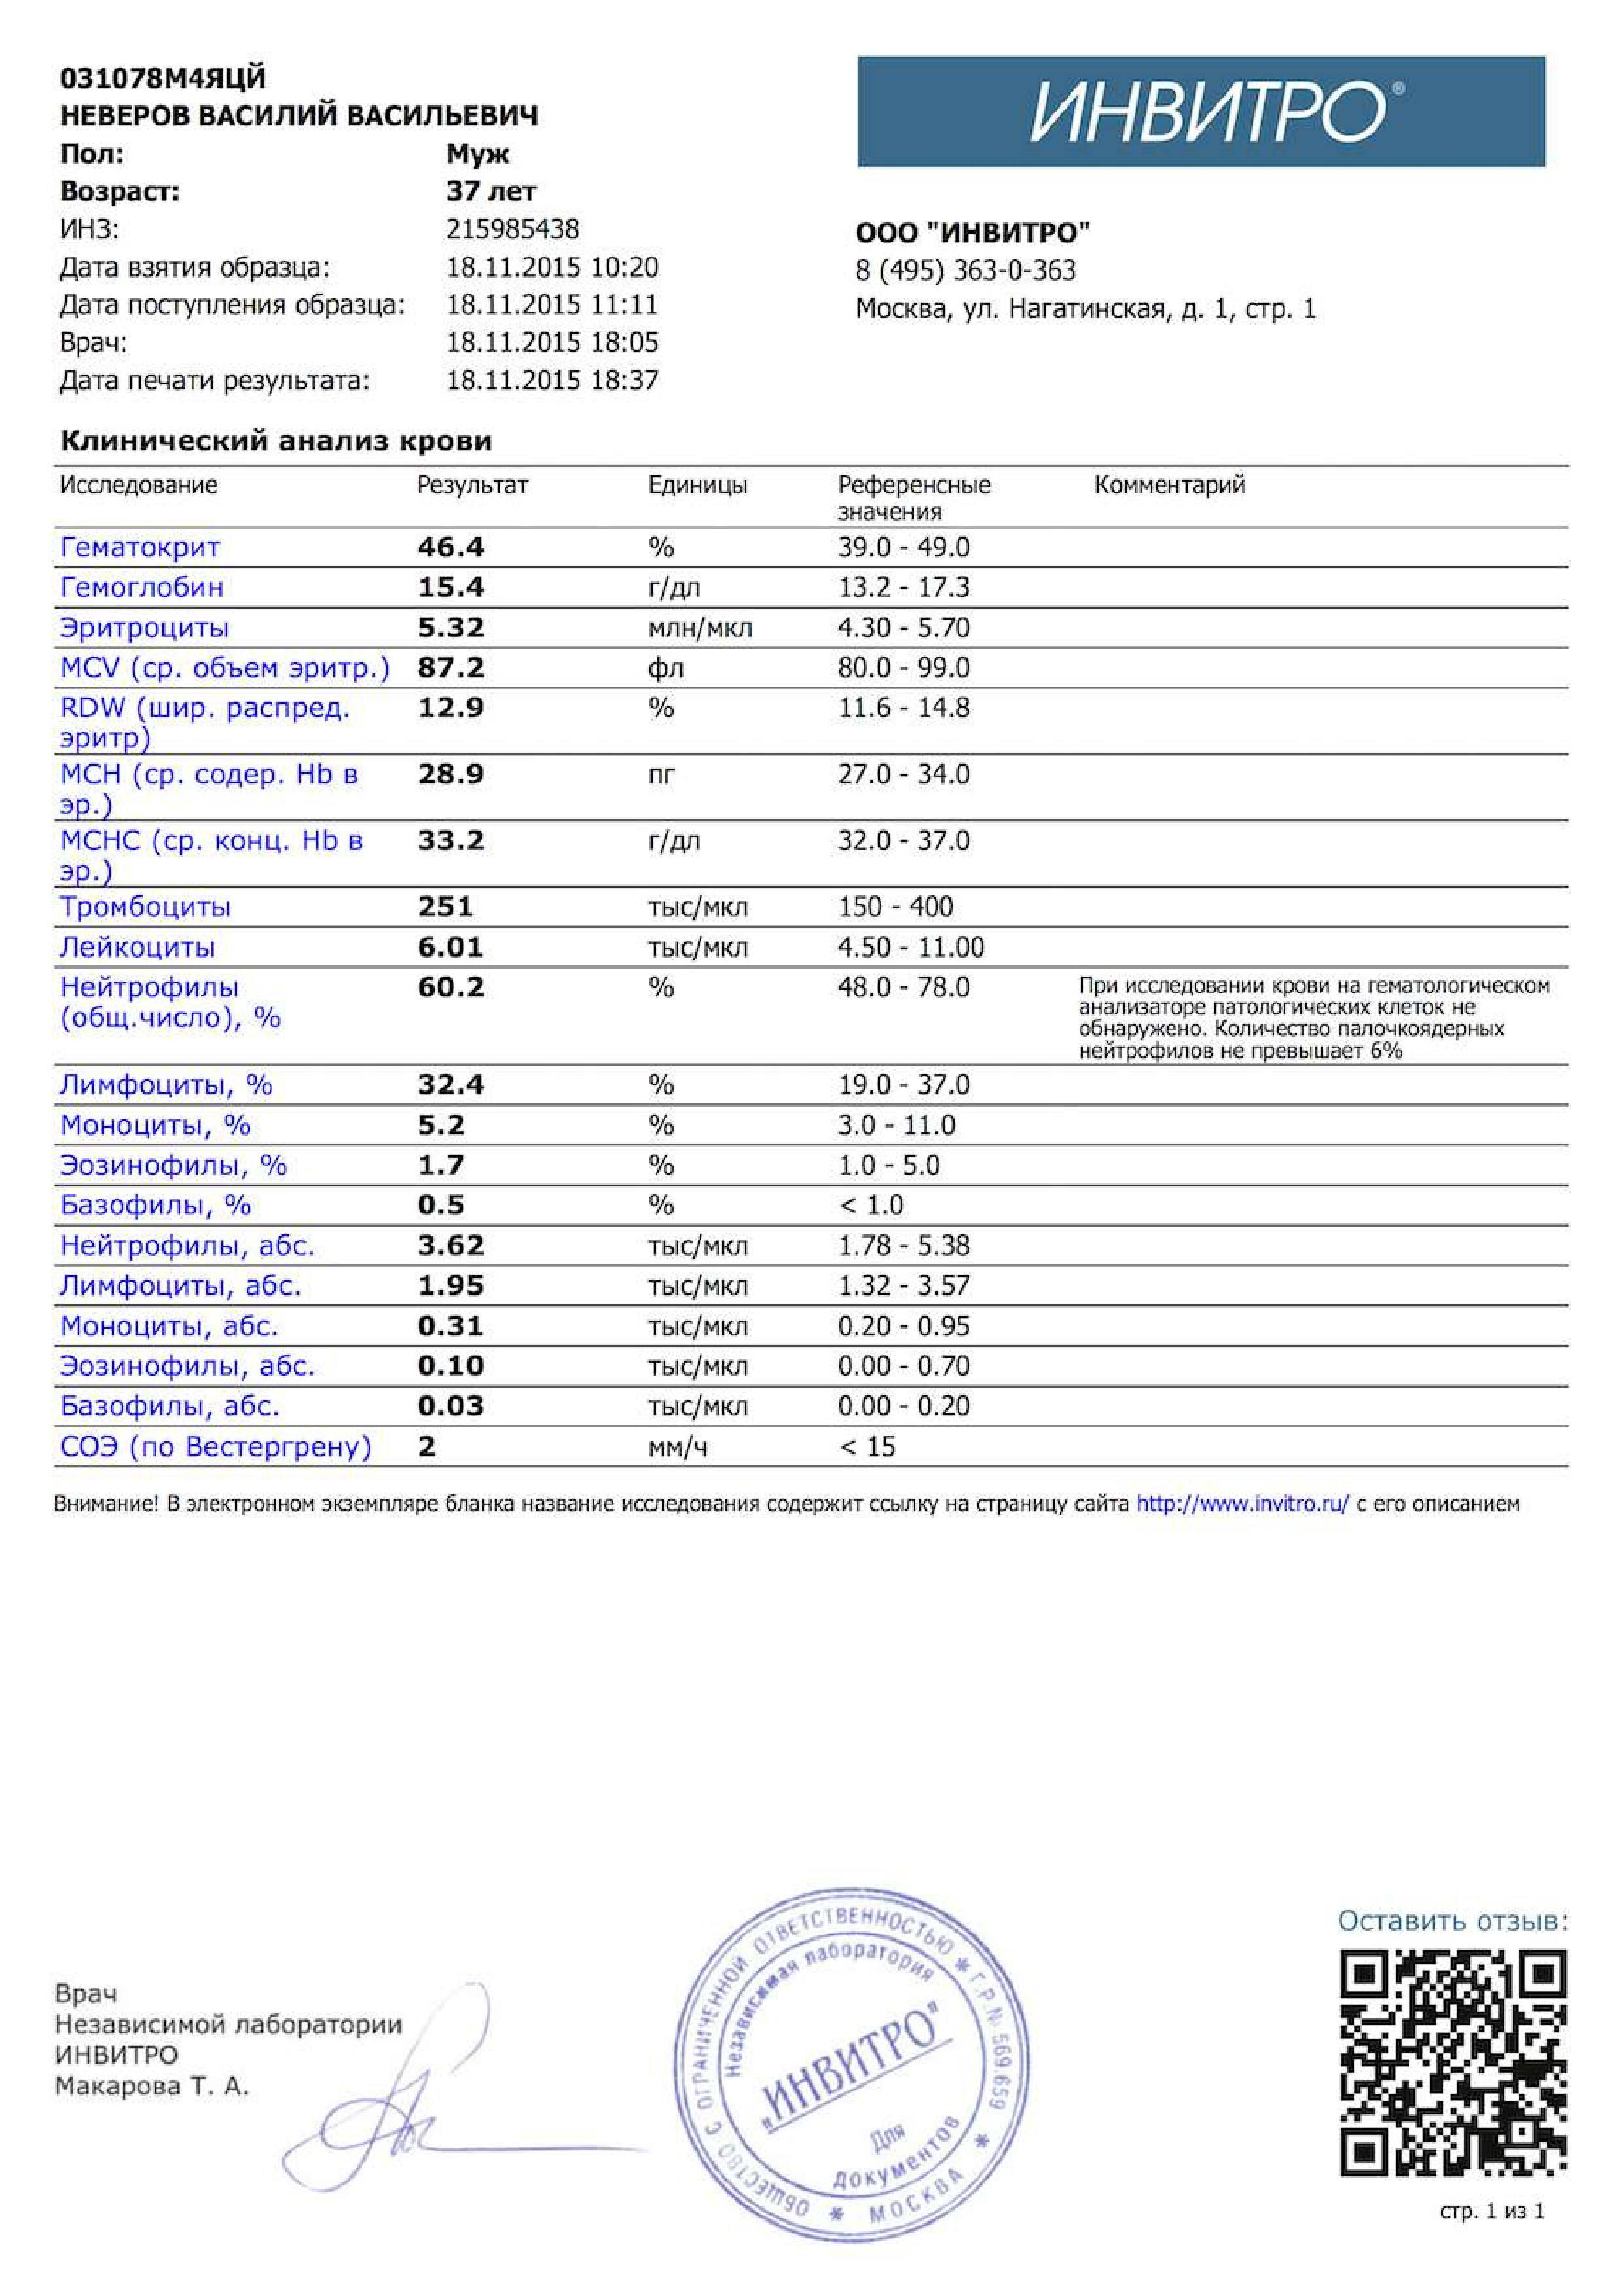column: (1078, 465, 1551, 1466), (60, 465, 390, 1466), (836, 465, 992, 1466), (415, 465, 532, 1466), (648, 465, 754, 1466)
